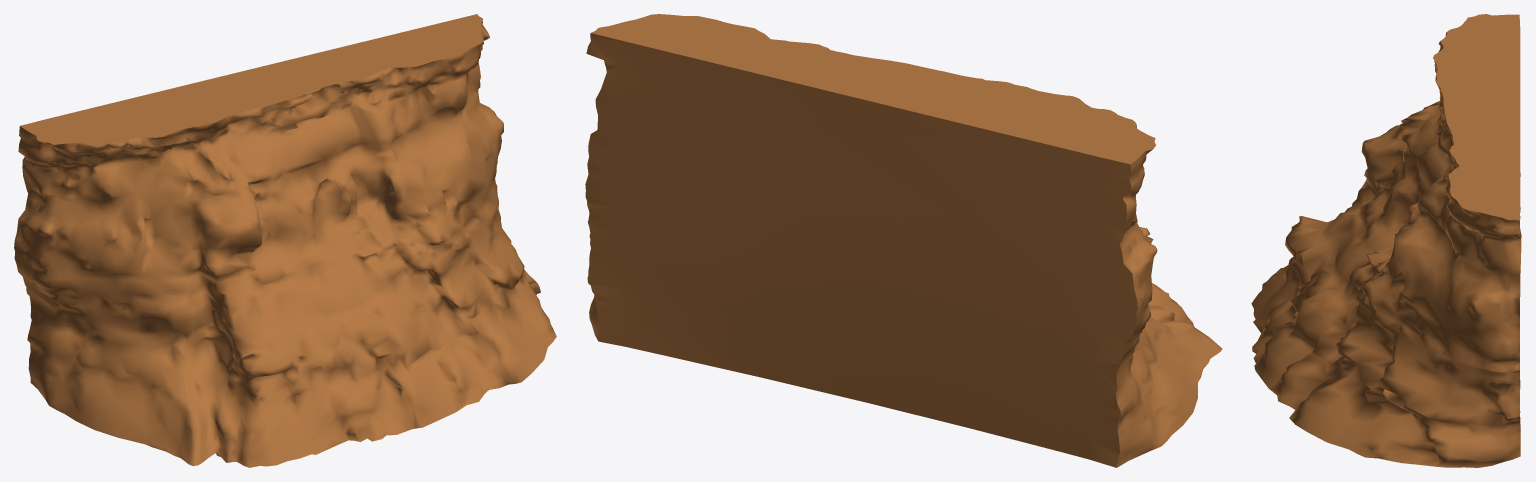
The model's file is MSH_Rocks_Cliff_25_b.FBX.
The picture shows the model from 3 angles, left to right: view 1: azimuth 30°, elevation 25°; view 2: azimuth 150°, elevation 25°; view 3: azimuth 270°, elevation 25°; orthographic projection. The views are drawn at different scales.
Parts seen in each view (by area): view 1: MESH_LOD0, CAP_LOD0; view 2: CAP_LOD0, MESH_LOD0; view 3: MESH_LOD0, CAP_LOD0.
Part boxes in pixels (x1,y1,x2,y2): MESH_LOD0: (14, 19, 556, 467); CAP_LOD0: (20, 14, 483, 145); CAP_LOD0: (585, 14, 1155, 467); MESH_LOD0: (587, 61, 1222, 467); MESH_LOD0: (1251, 32, 1521, 467); CAP_LOD0: (1433, 14, 1520, 425).
Size of what is drawn, in the model's own units: 1288 by 661 by 676.
